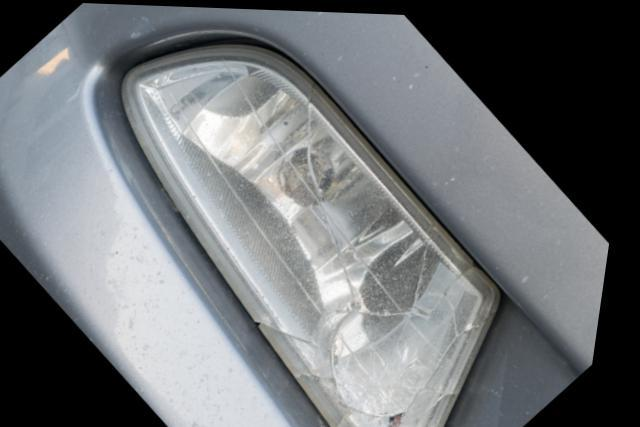lamp broken: (121, 42, 511, 427)
